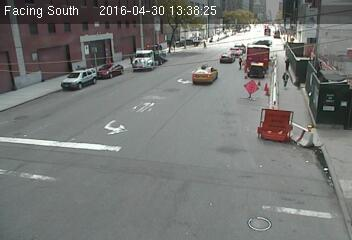neg: (13, 111, 48, 157), (307, 89, 342, 135), (128, 154, 161, 199), (58, 52, 87, 91), (264, 112, 291, 148), (169, 82, 196, 117), (227, 80, 252, 114), (99, 138, 121, 168), (236, 189, 256, 215)
pos: (278, 67, 295, 90), (283, 54, 294, 69)
